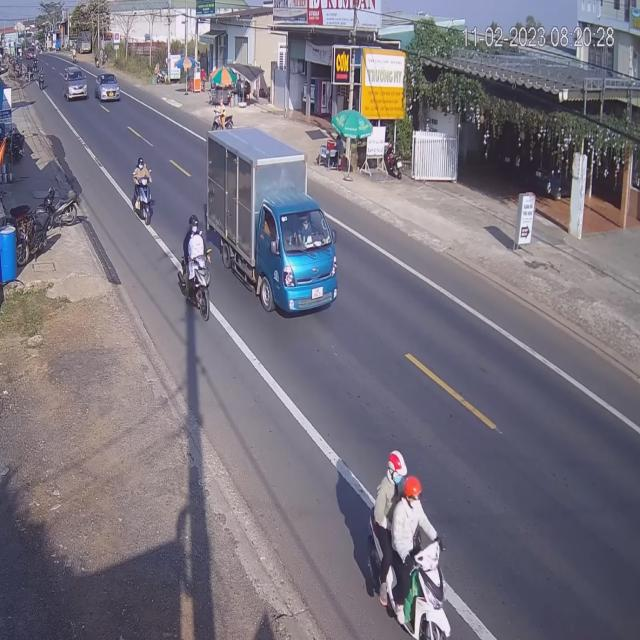car: (64, 66, 88, 101), (96, 72, 118, 102)
motorbike: (369, 452, 450, 640), (178, 214, 214, 320), (131, 157, 155, 228)
truck: (206, 126, 338, 322)
